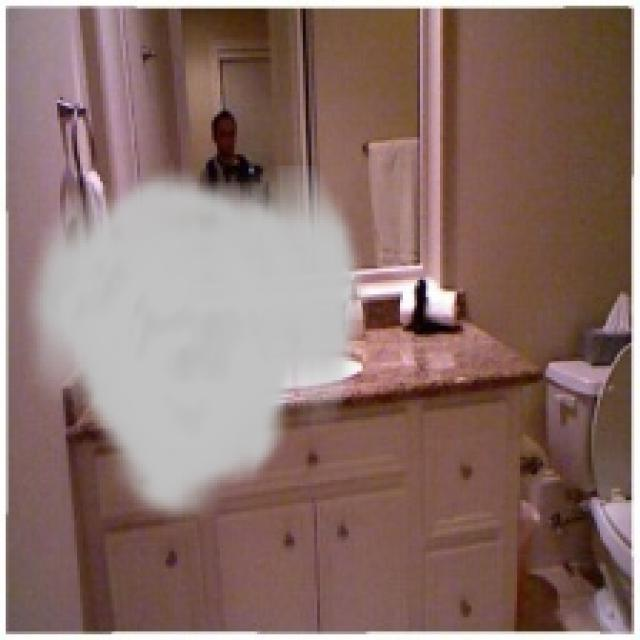smoke: (17, 165, 369, 526)
